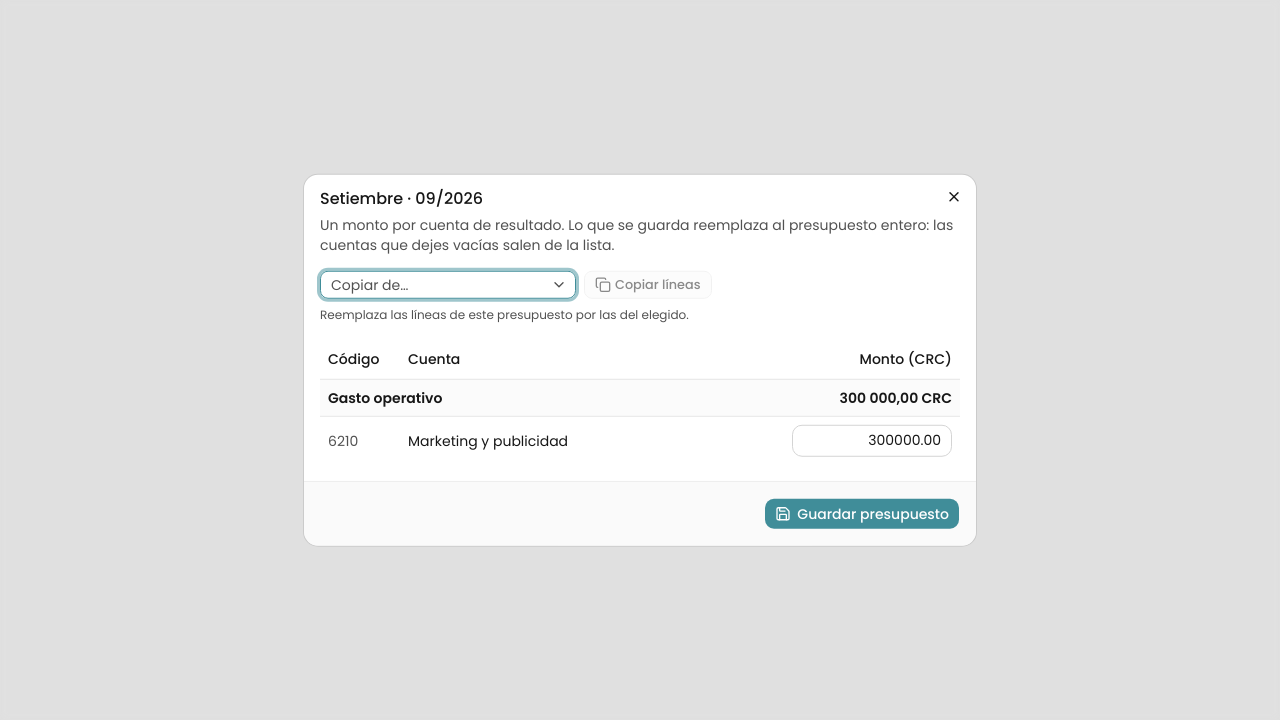
Test case: FinanceBudgetLinesDialog — guardar es un reemplazo total › un monto a medio escribir sigue rechazándose antes de mandarlo
Replace the text in the field named "Monto de 6210 Marketing y publicidad" with "1.234" at (872, 440), box left=792, top=424, right=952, bottom=456
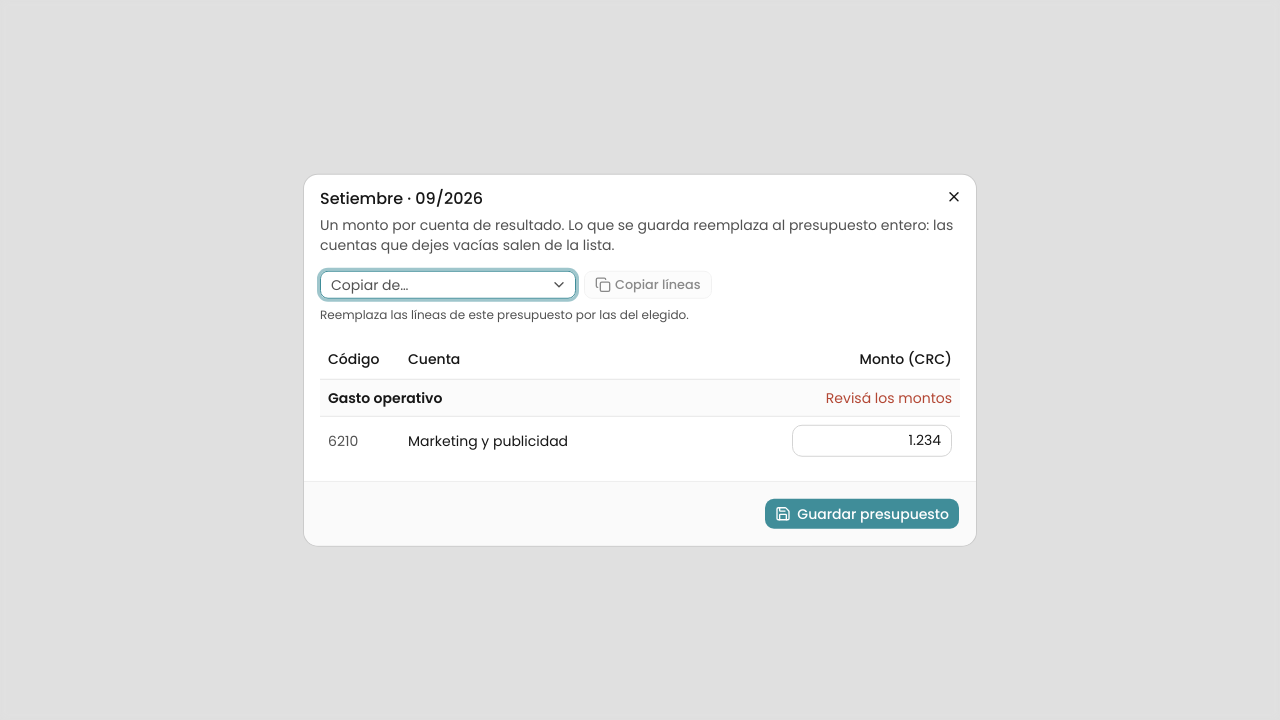
Click the button "Guardar presupuesto".
click(862, 513)  # box left=764, top=497, right=960, bottom=529
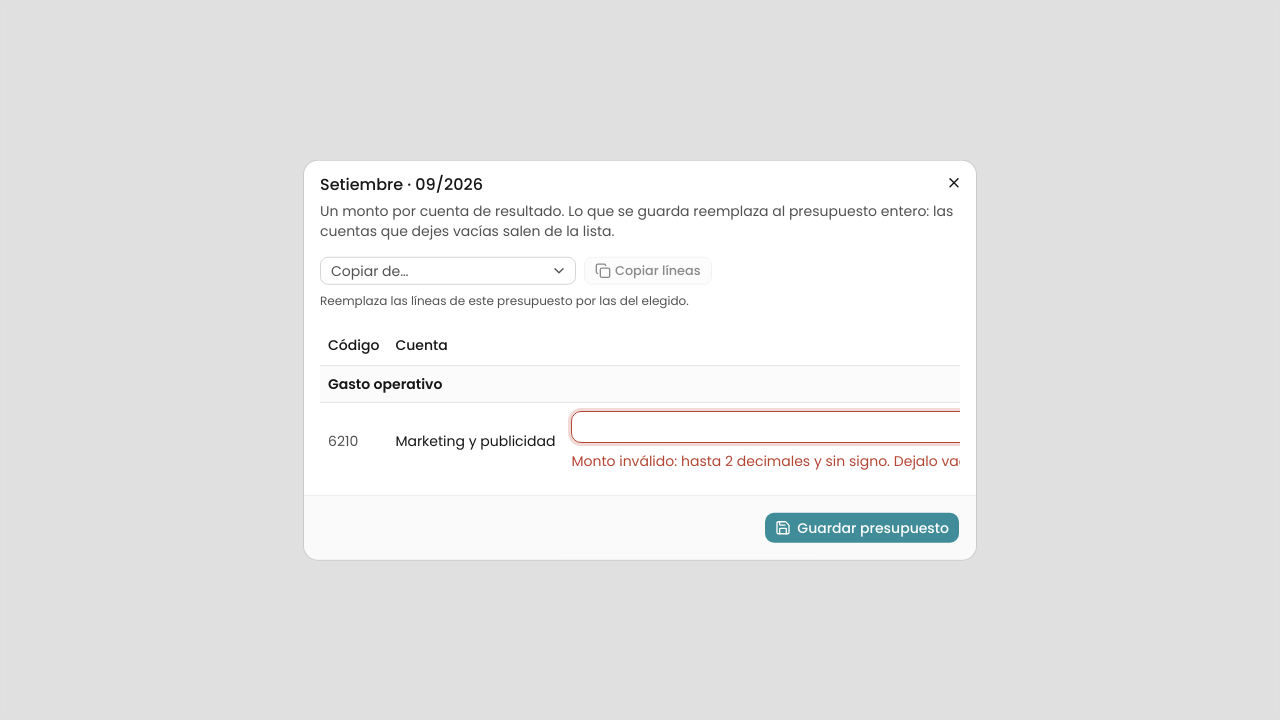
Result: the text "hasta 2 decimales" is shown at left=571, top=450, right=960, bottom=470
